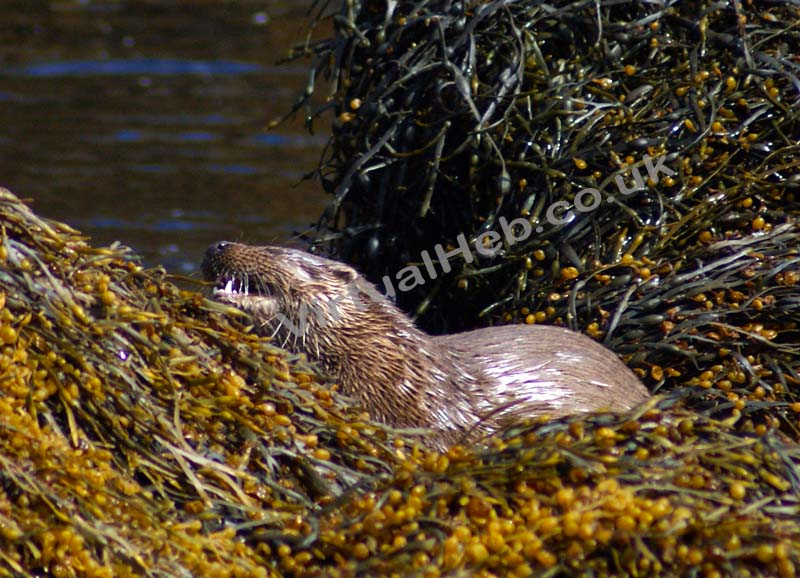otter: (160, 220, 678, 478)
